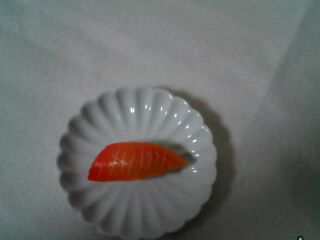002_classes: (80, 138, 195, 180)
